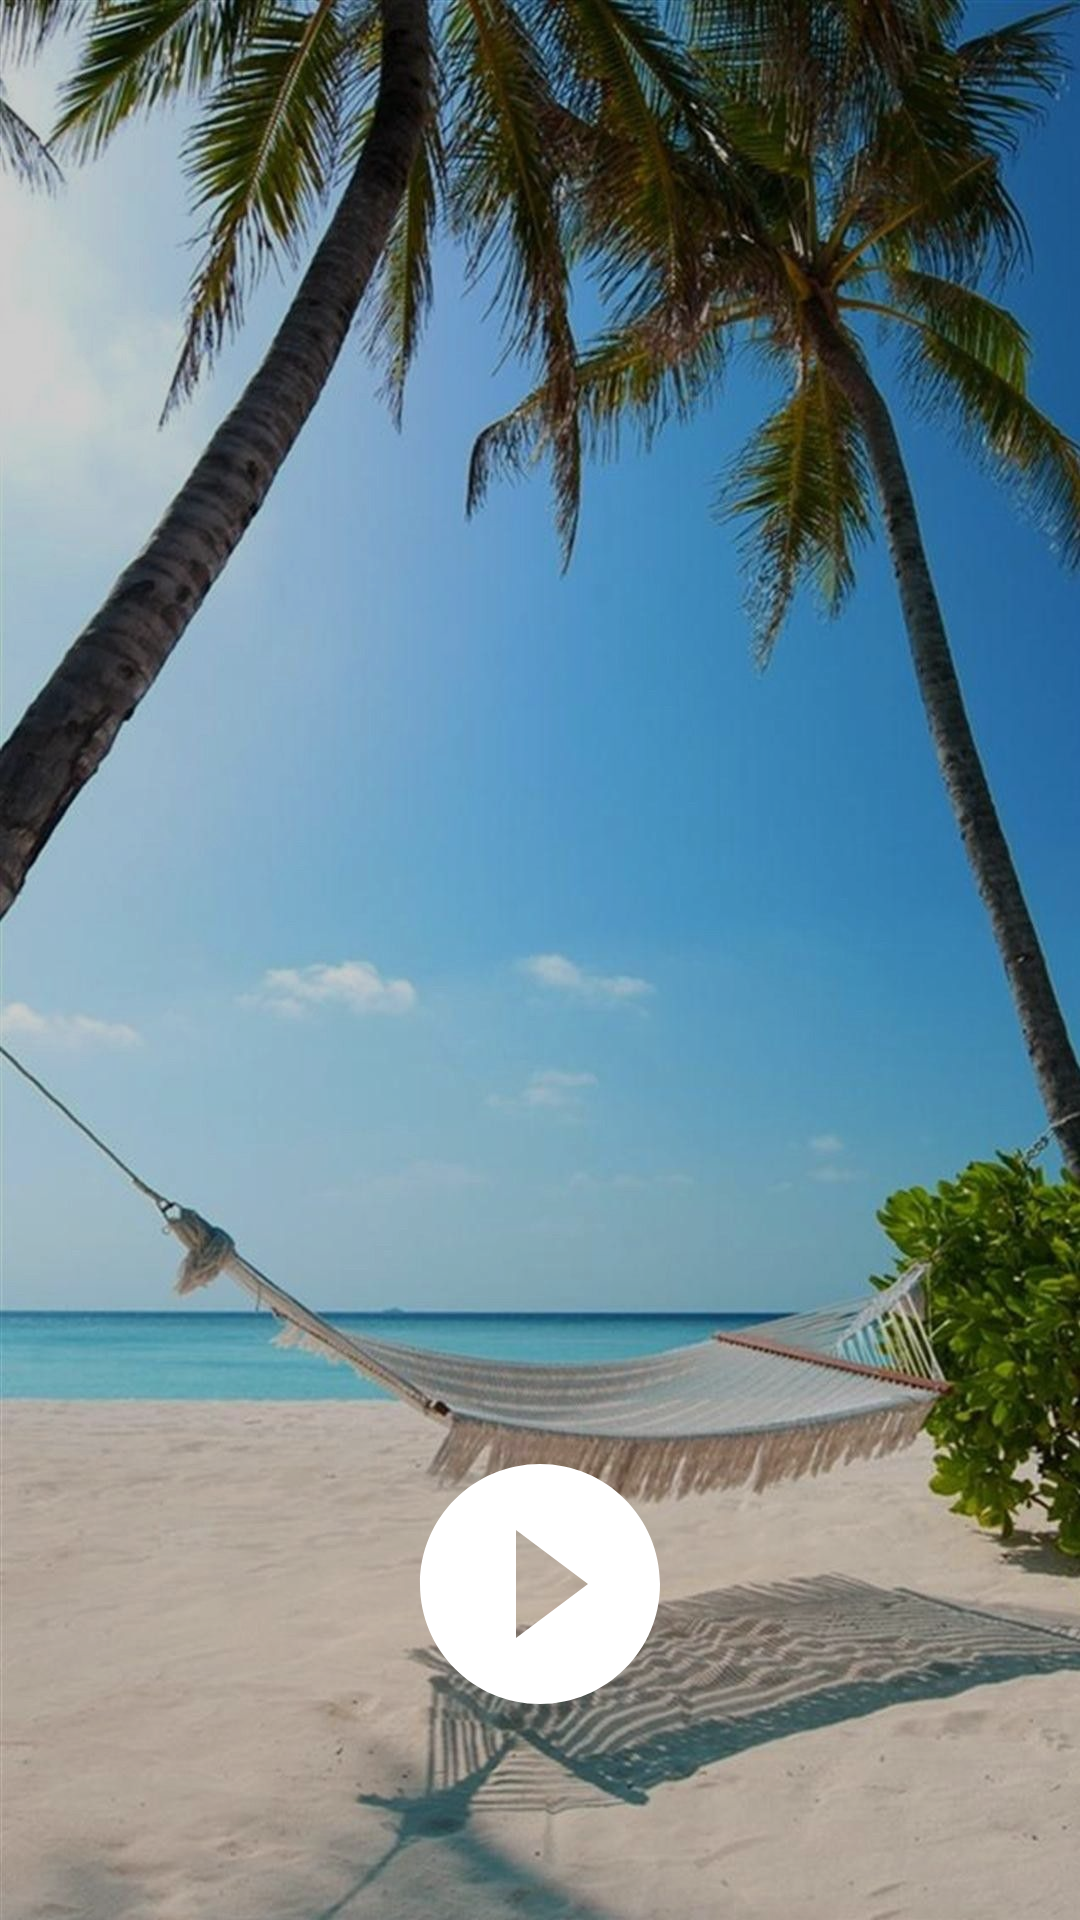

Where to tap for icons on this 1080x1920 app screen, as [x,y]:
play: [540,1584]
